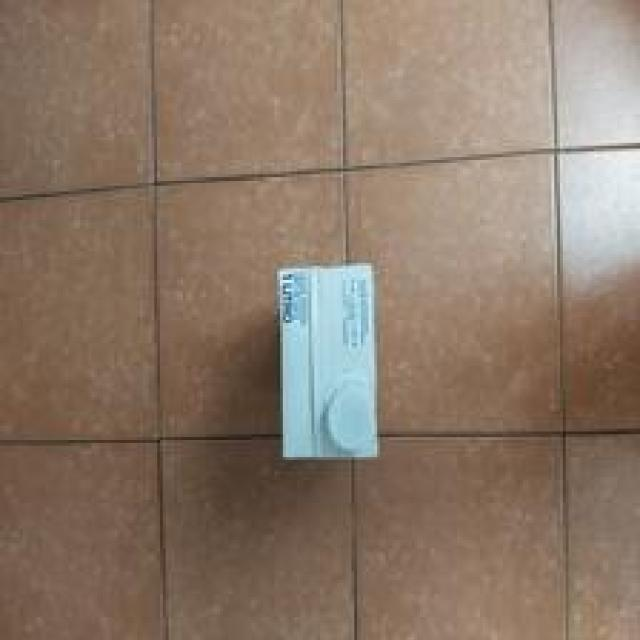Carton: (282, 262, 379, 460)
